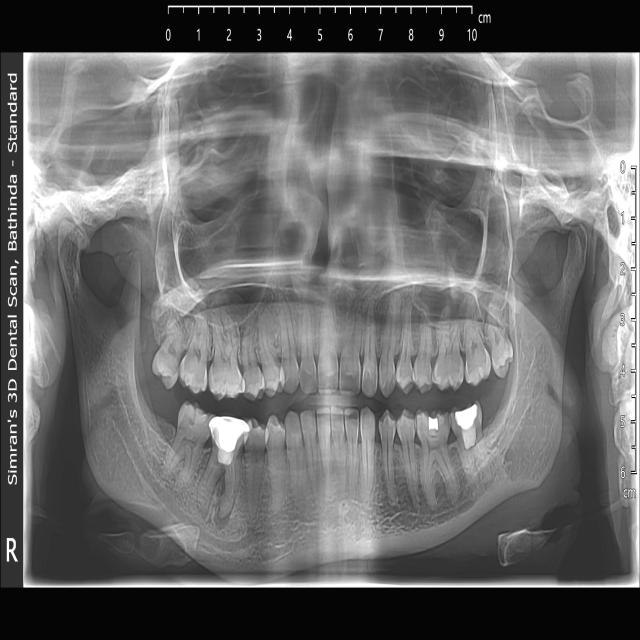Crown: (208, 415, 248, 451)
Filling: (455, 401, 477, 454), (428, 418, 437, 429)
Mandibular Canal: (372, 357, 537, 525), (113, 396, 264, 553)
Periapical lesion: (212, 484, 236, 534)
maxillary sinus: (155, 147, 288, 328), (390, 136, 510, 332)
